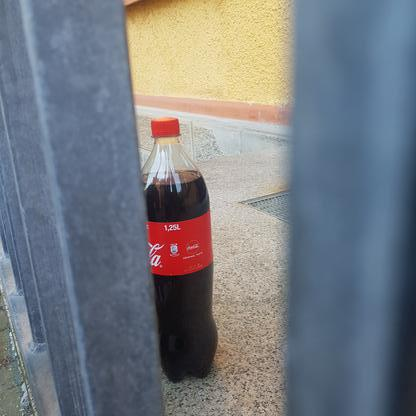coca-cola: (140, 115, 221, 384)
